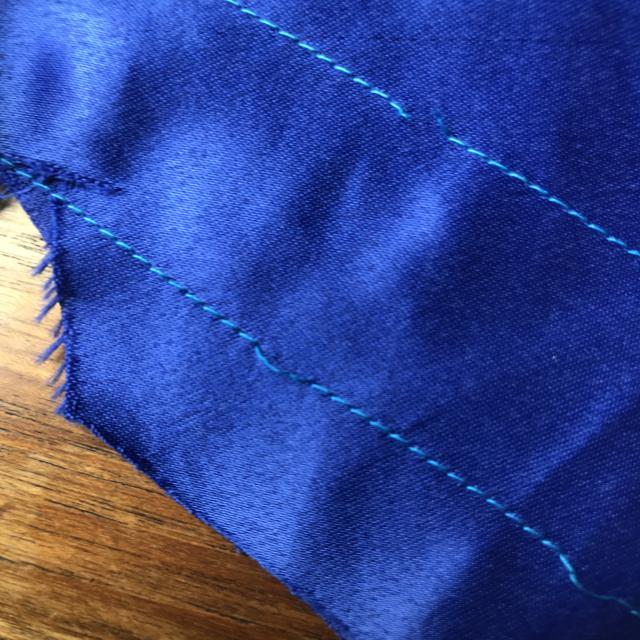broken: (366, 92, 489, 168)
